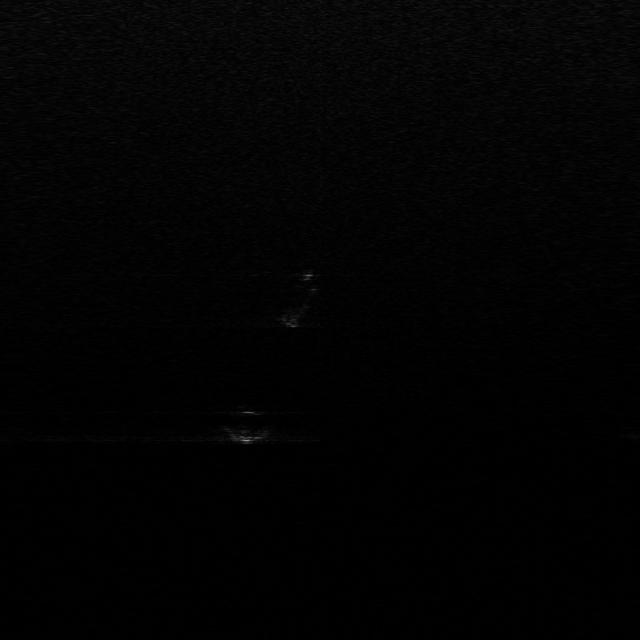ball: (221, 406, 277, 444)
tyre: (279, 266, 323, 328)
